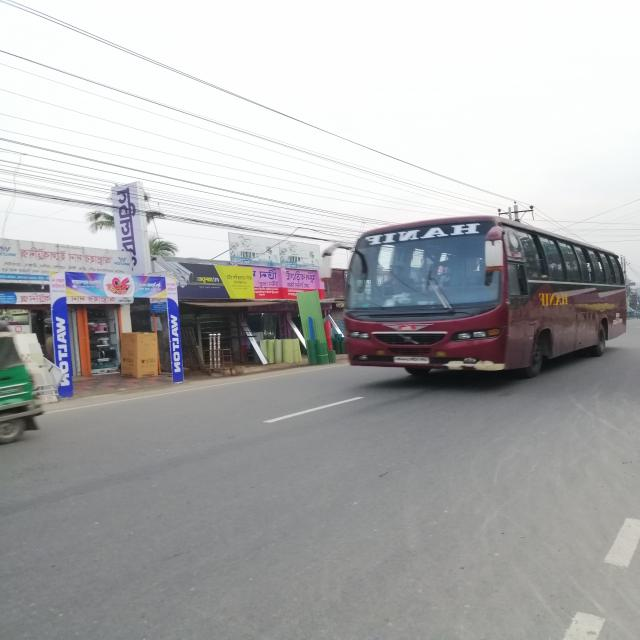Bus: (331, 213, 635, 398)
